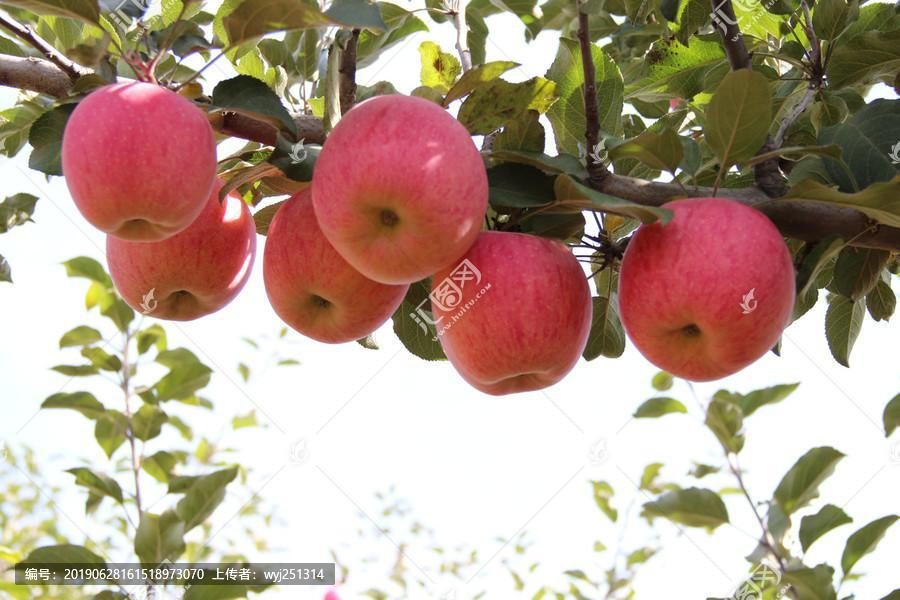apple: (311, 94, 492, 286), (615, 200, 790, 384), (430, 232, 592, 390), (60, 77, 218, 234), (261, 187, 410, 343), (101, 193, 255, 325)
